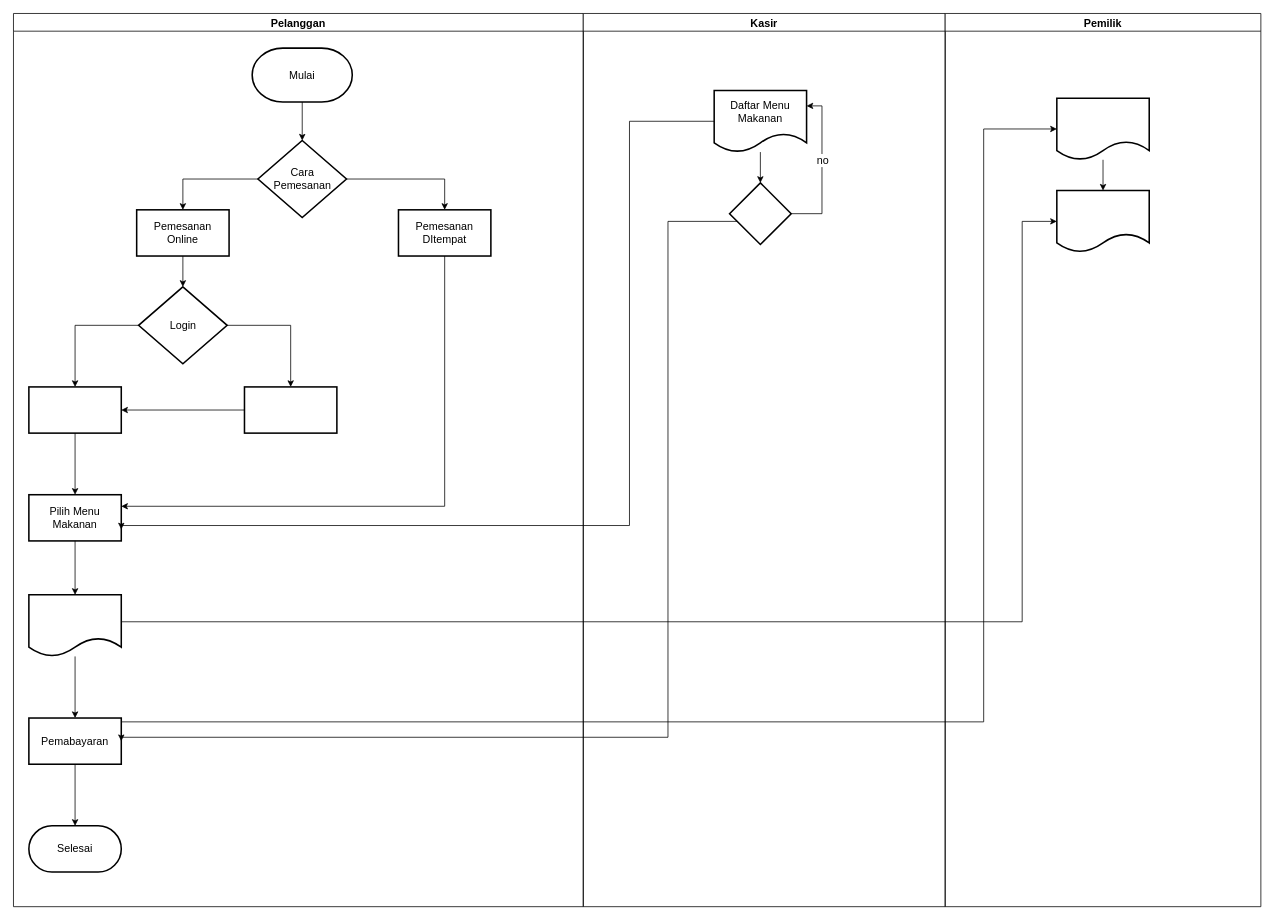
This 1274x920 diagram has some shape labels left out. The centre of each missing label's shape, as x and y in pixels:
"Daftar Akun" belongs at (x=290, y=410).
"Data Pesanan" belongs at (x=75, y=625).
"Laporan Data Pesanan" belongs at (x=1103, y=128).
"Laporan Pembayaran" belongs at (x=1103, y=221).
"Masuk" belongs at (x=75, y=410).
"Proses bayar" belongs at (x=760, y=213).
